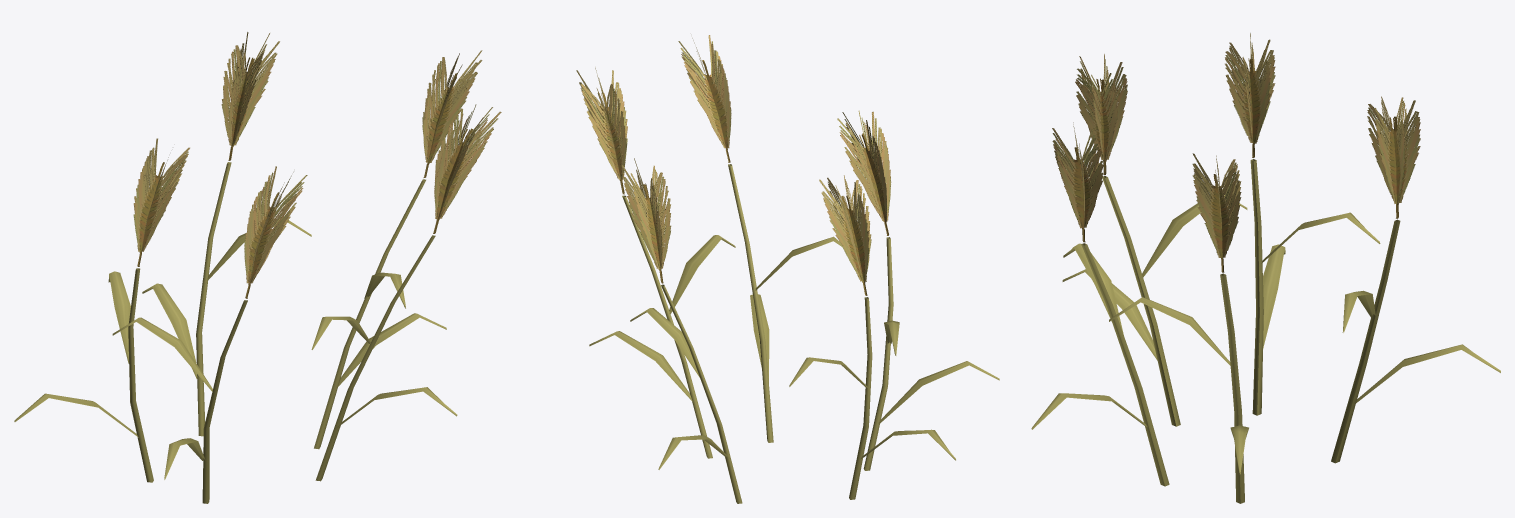
File: barley-tillers.glb
3 views of the same model, side by side, from view 1: azimuth 30°, elevation 25°; view 2: azimuth 150°, elevation 25°; view 3: azimuth 270°, elevation 25° (orthographic). The views are drawn at different scales.
Parts seen in each view (by area): view 1: Five ripening barley tillers; view 2: Five ripening barley tillers; view 3: Five ripening barley tillers.
Boxes of the visible parts, bbox=[...] form: Five ripening barley tillers: bbox=[14, 32, 501, 503]; Five ripening barley tillers: bbox=[576, 35, 999, 503]; Five ripening barley tillers: bbox=[1031, 33, 1500, 503].
Bounding box in the file's own units: 1.2 × 0.9459 × 0.9447.
Materials: 1 (1 with a texture image).
